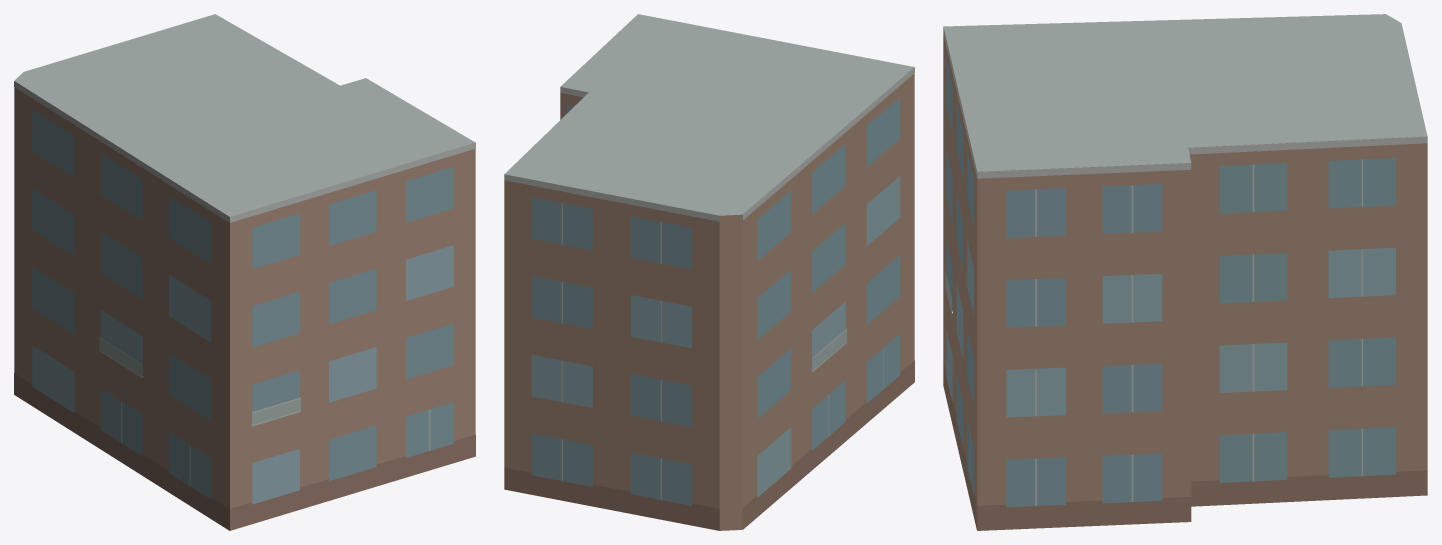
File: survey-upis-32621869.glb
The picture shows the model from 3 angles, left to right: view 1: azimuth 30°, elevation 25°; view 2: azimuth 150°, elevation 25°; view 3: azimuth 270°, elevation 25°; orthographic projection. The views are drawn at different scales.
Visible parts, largest first — view 1: survey-upis-32621869.tmp; view 2: survey-upis-32621869.tmp; view 3: survey-upis-32621869.tmp.
Part boxes in pixels (x1,y1,x2,y2): survey-upis-32621869.tmp: (14,14,475,530); survey-upis-32621869.tmp: (504,14,914,530); survey-upis-32621869.tmp: (943,14,1427,530).
Size of the model in its own units: 12.08 by 12.8 by 15.66.
